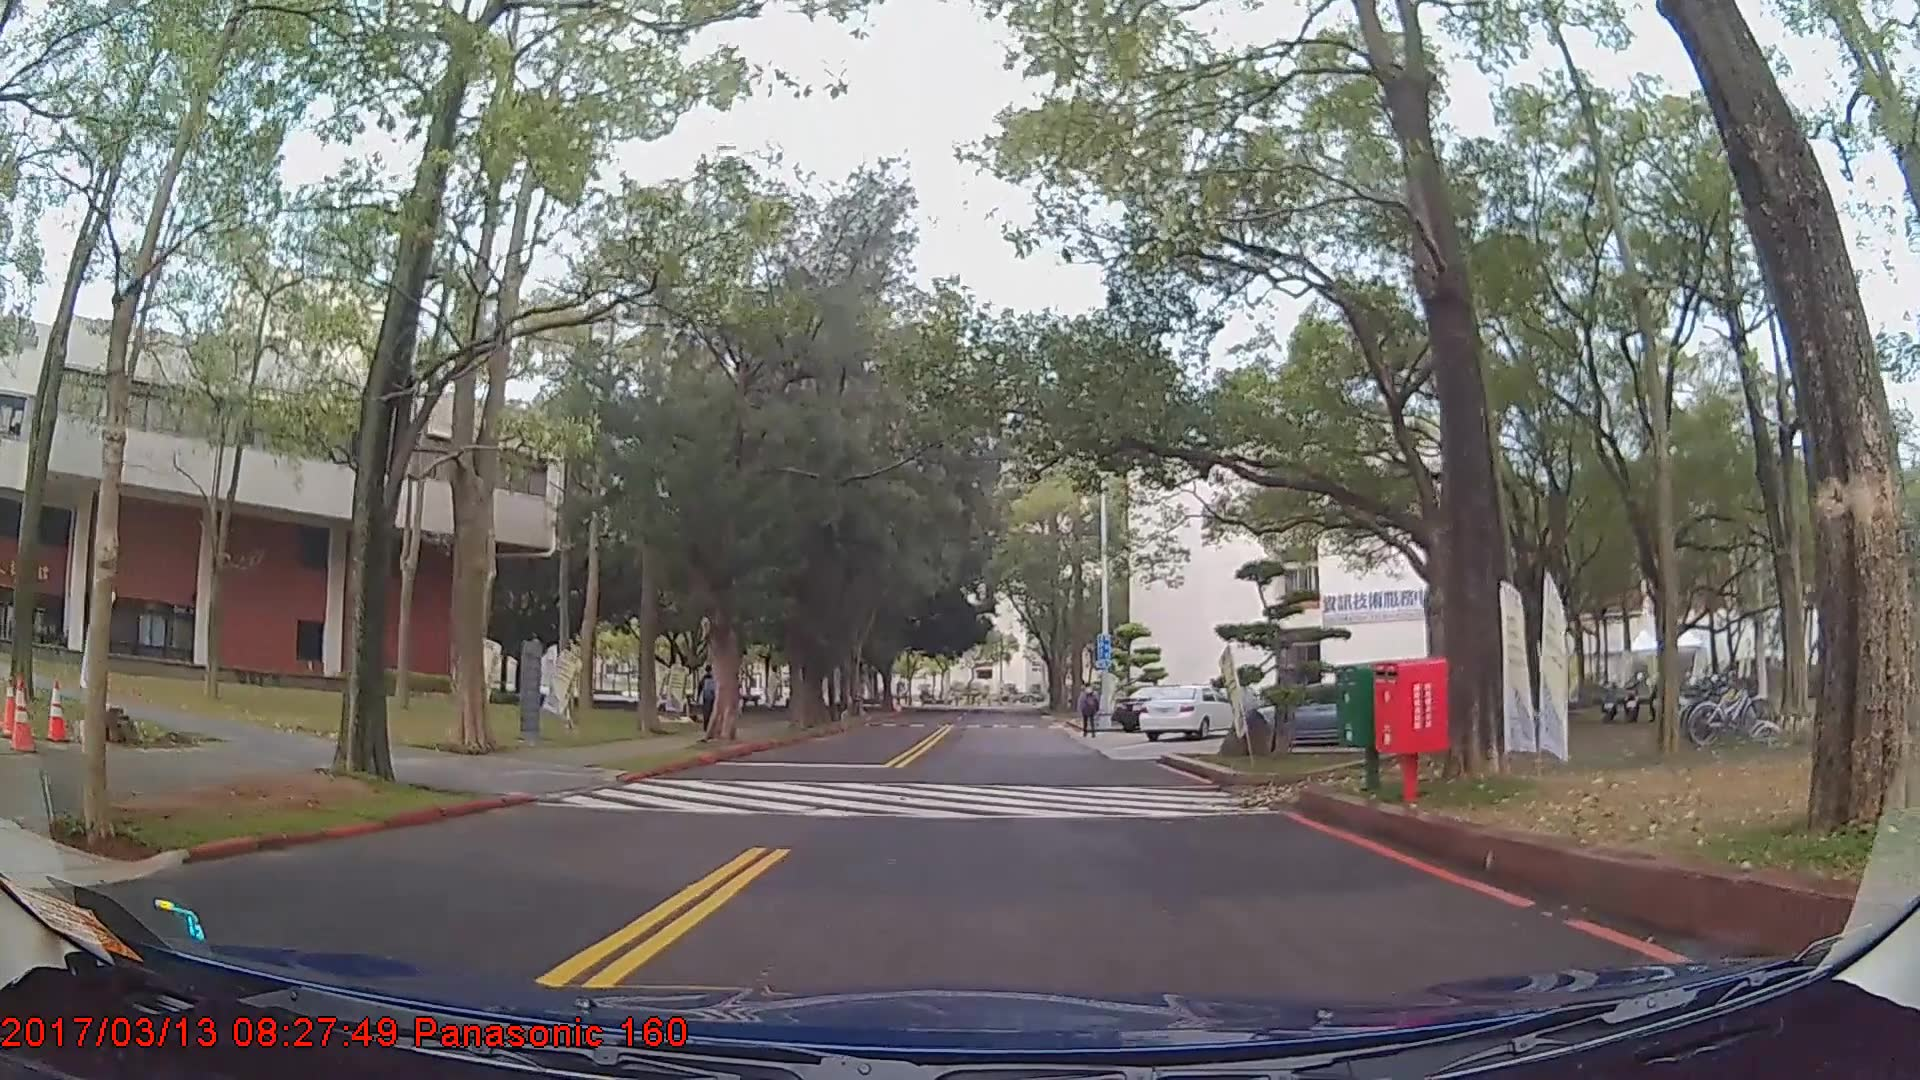pedestrian: (698, 668, 727, 740), (1077, 682, 1102, 739)
vehicle: (1142, 680, 1244, 737)
